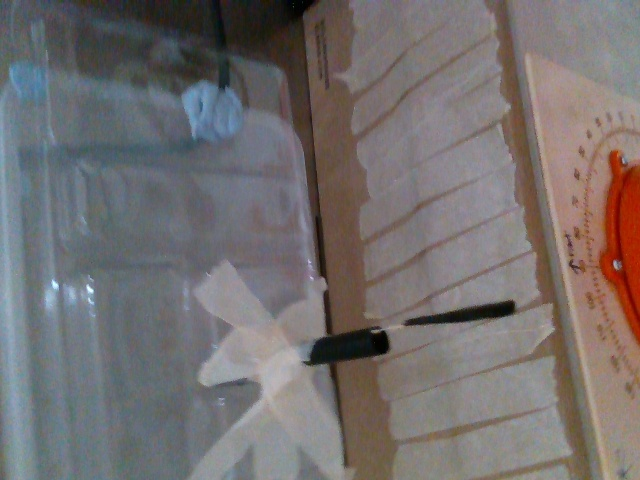test_strip: (368, 297, 513, 333)
